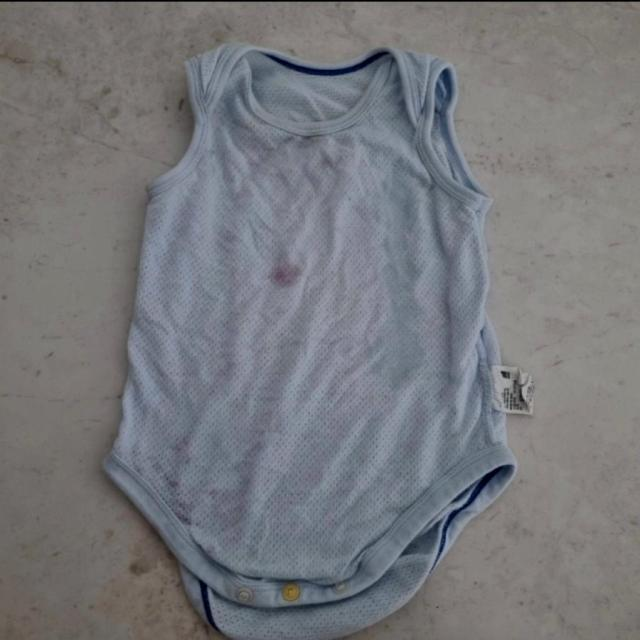stain: (272, 257, 309, 292)
